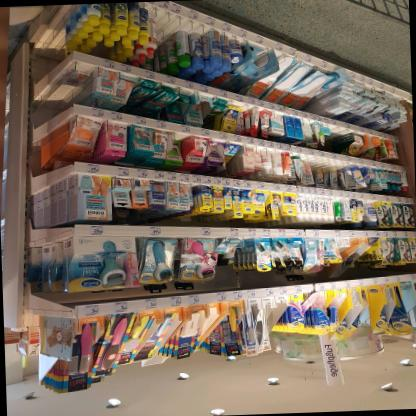empty_space: (156, 16, 194, 44)
